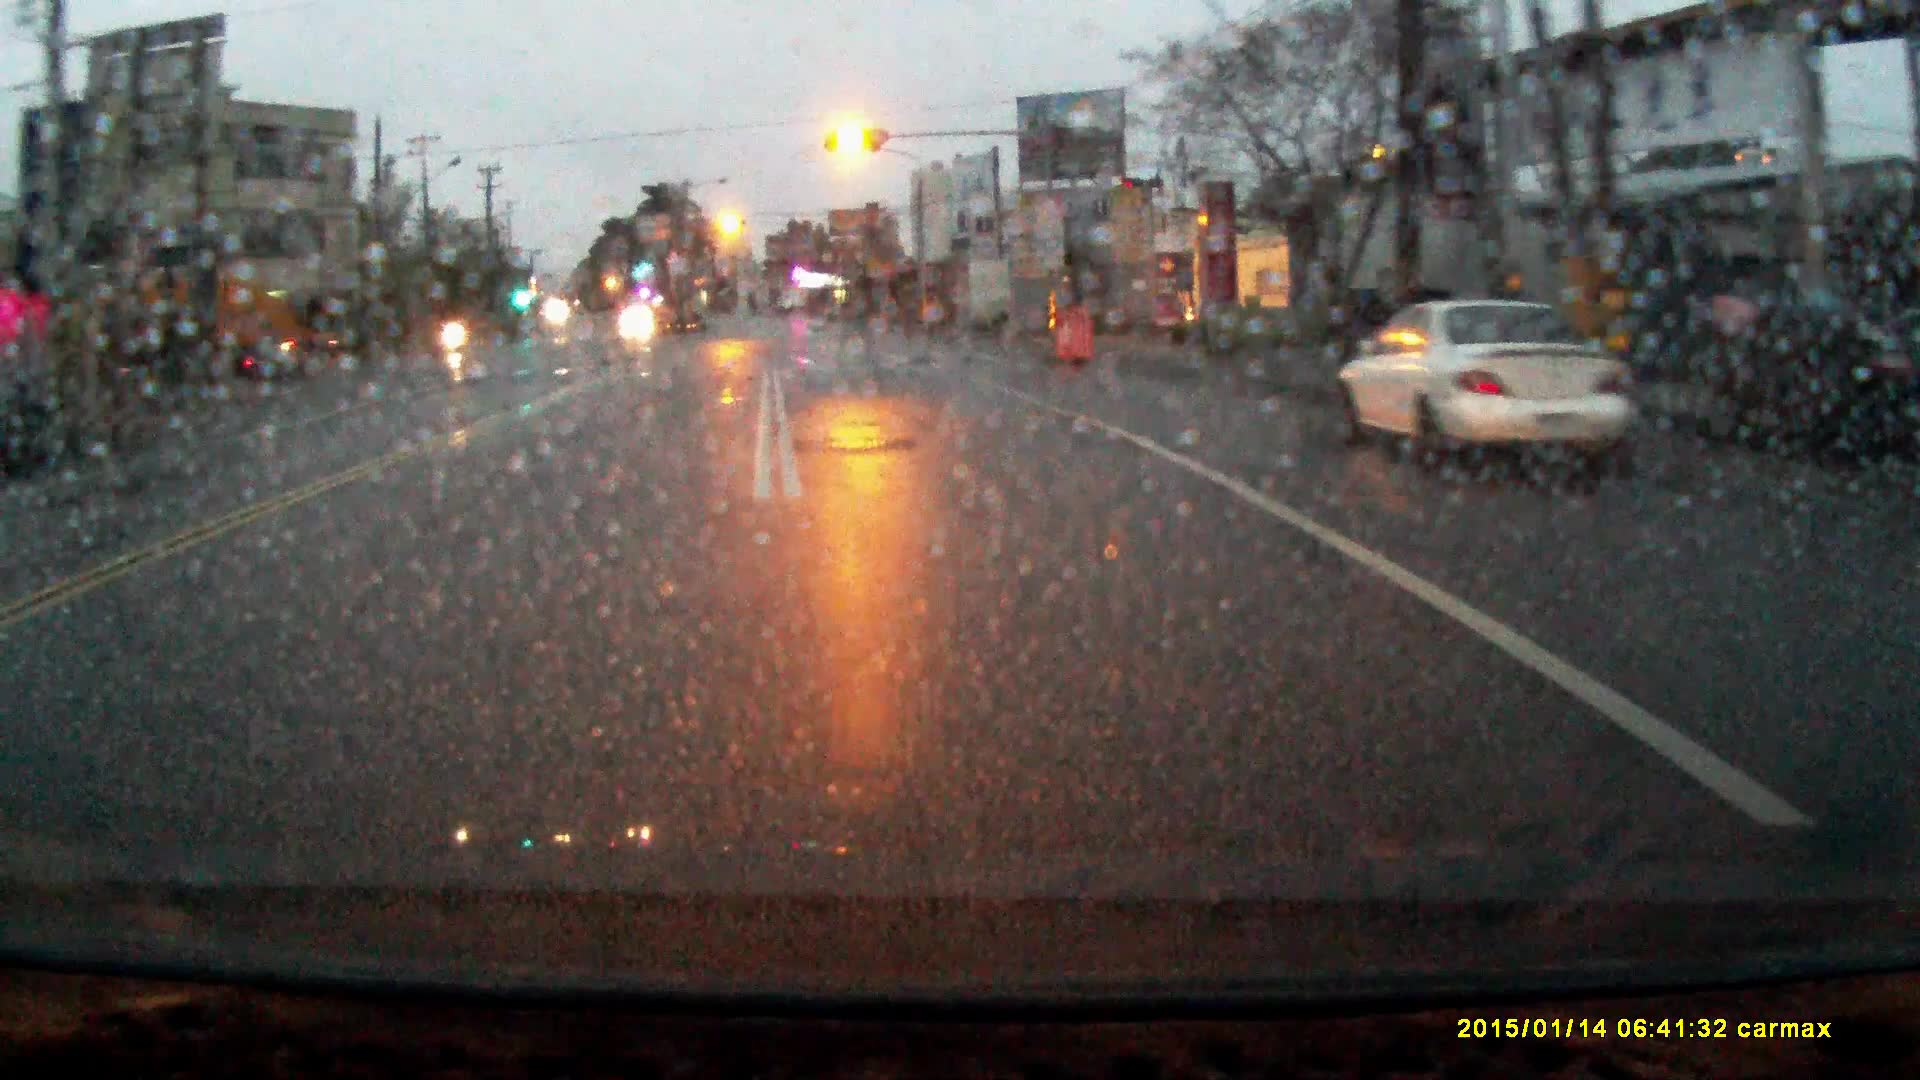rider: (439, 297, 472, 355)
vehicle: (1337, 298, 1660, 474), (97, 259, 336, 362), (619, 301, 655, 334)
